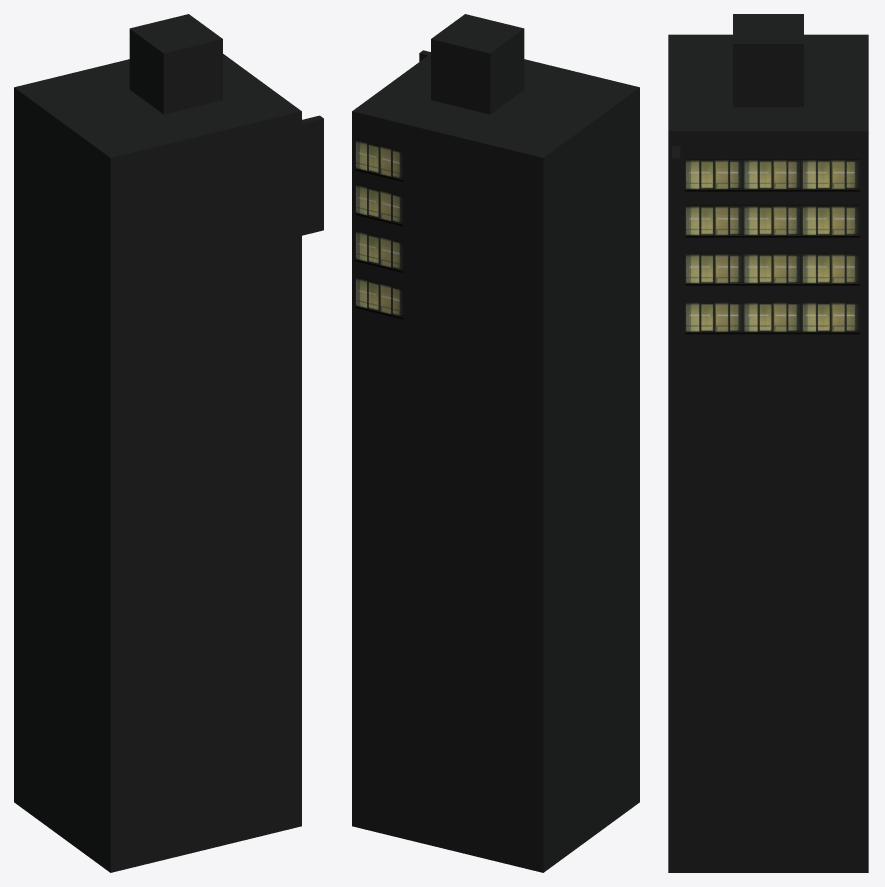
The model's file is AMB_BILL00.glb.
The picture shows the model from 3 angles, left to right: view 1: azimuth 30°, elevation 25°; view 2: azimuth 150°, elevation 25°; view 3: azimuth 270°, elevation 25°; orthographic projection. The views are drawn at different scales.
Visible parts, largest first — view 1: BASE; view 2: BASE; view 3: BASE.
Boxes of the visible parts, <box> form: BASE: <box>14,14,323,872</box>; BASE: <box>352,14,639,872</box>; BASE: <box>668,14,868,872</box>.
Size of the model in its own units: 57.98 by 200 by 45.5.
Materials: 2 (2 with a texture image).
